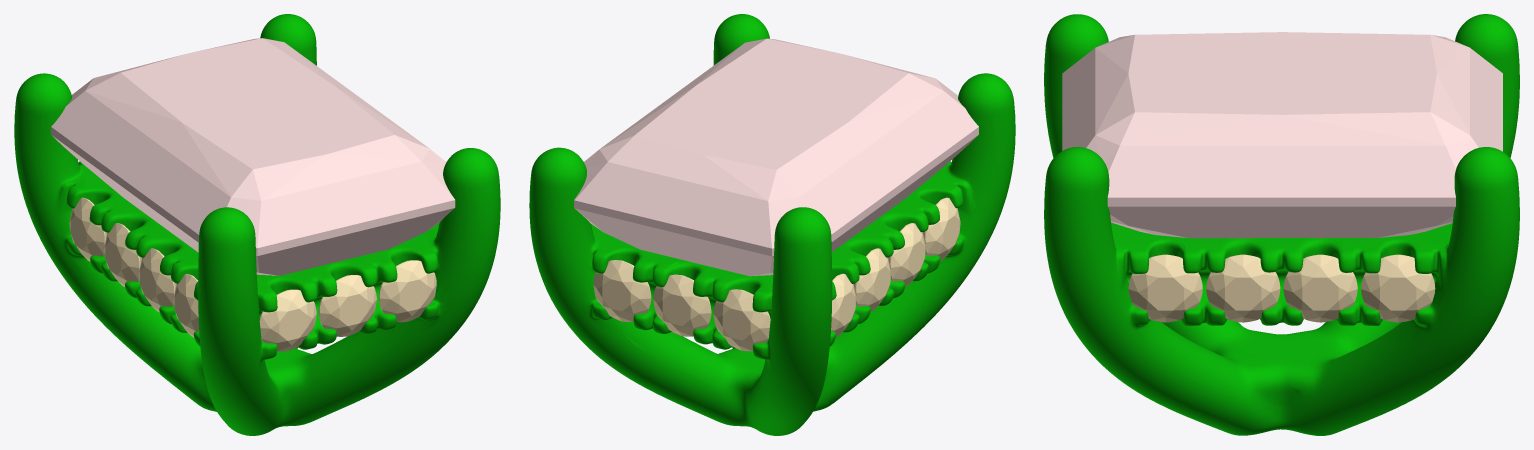
The picture shows the model from 3 angles, left to right: view 1: azimuth 30°, elevation 25°; view 2: azimuth 150°, elevation 25°; view 3: azimuth 270°, elevation 25°; orthographic projection. The views are drawn at different scales.
Parts seen in each view (by area): view 1: Metal01, Diamond_Radiant, Diamond_Round.008, Diamond_Round.007, Diamond_Round.009, Diamond_Round.003, Diamond_Round.006, Diamond_Round.004, Diamond_Round.005; view 2: Metal01, Diamond_Radiant, Diamond_Round.001, Diamond_Round.002, Diamond_Round, Diamond_Round.006, Diamond_Round.003, Diamond_Round.005, Diamond_Round.004; view 3: Diamond_Radiant, Metal01, Diamond_Round.013, Diamond_Round.010, Diamond_Round.012, Diamond_Round.011.
Part boxes in pixels (x1,y1,x2,y2): Metal01: (14, 14, 500, 435); Diamond_Radiant: (51, 38, 455, 275); Diamond_Round.008: (318, 275, 376, 336); Diamond_Round.007: (378, 260, 436, 322); Diamond_Round.009: (259, 289, 316, 351); Diamond_Round.003: (104, 223, 141, 286); Diamond_Round.006: (138, 248, 176, 312); Diamond_Round.004: (69, 197, 107, 261); Diamond_Round.005: (173, 274, 199, 337); Metal01: (529, 14, 1015, 435); Diamond_Radiant: (574, 38, 978, 276); Diamond_Round.001: (653, 274, 711, 336); Diamond_Round.002: (593, 260, 651, 321); Diamond_Round: (713, 289, 770, 351); Diamond_Round.006: (888, 223, 925, 286); Diamond_Round.003: (853, 248, 891, 312); Diamond_Round.005: (922, 197, 960, 261); Diamond_Round.004: (831, 273, 856, 337); Diamond_Radiant: (1062, 32, 1502, 238); Metal01: (1044, 14, 1519, 435); Diamond_Round.013: (1283, 254, 1357, 322); Diamond_Round.010: (1206, 254, 1280, 322); Diamond_Round.012: (1361, 254, 1435, 322); Diamond_Round.011: (1128, 254, 1202, 322).
Size of the model in its own units: 5.14 by 5.15 by 6.43.
